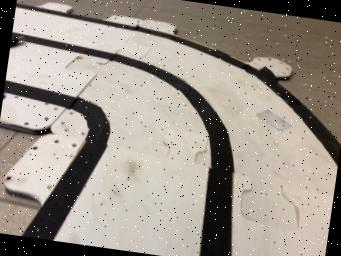street: (4, 1, 340, 256), (4, 1, 340, 256), (4, 1, 340, 256), (4, 1, 340, 256), (4, 1, 340, 256), (4, 1, 340, 256)
